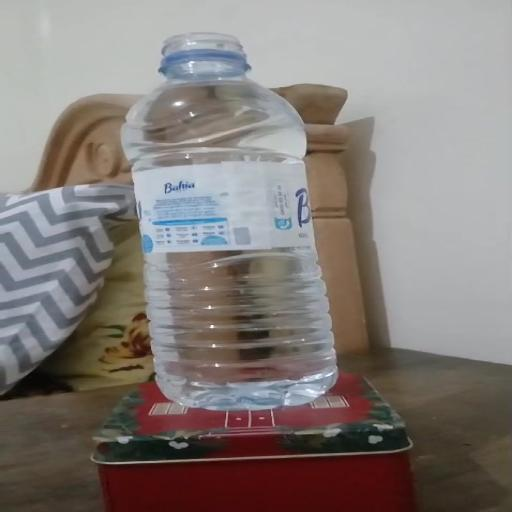bouteille non conformite: (148, 35, 295, 414)
